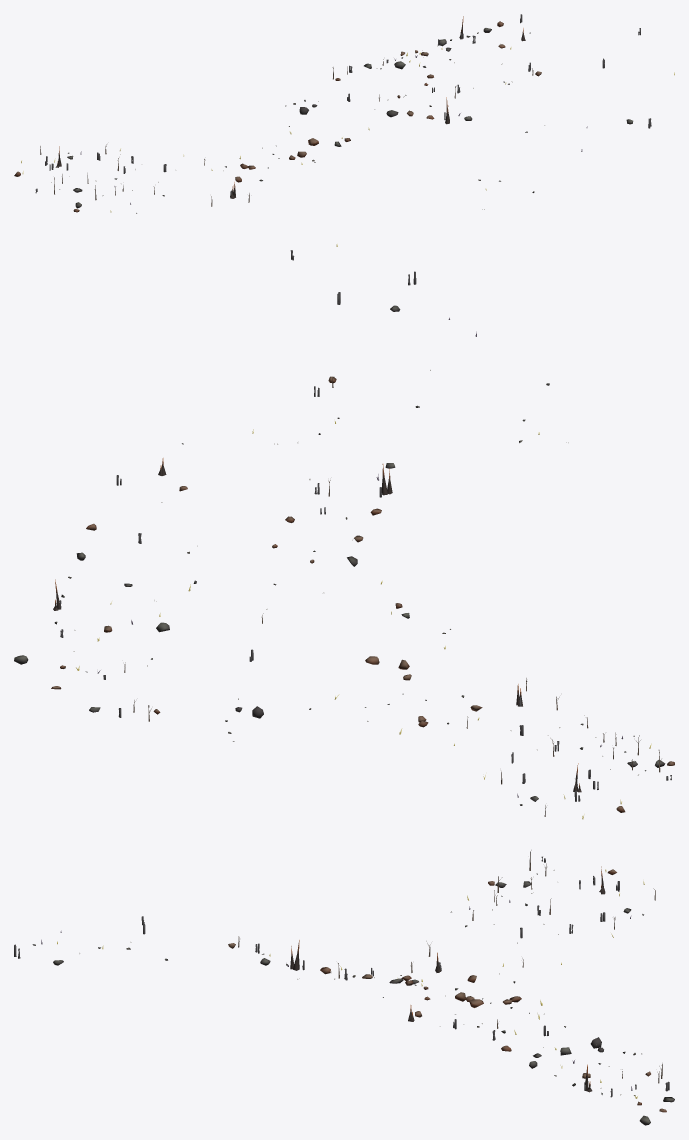
Rendered from ash_land_scatter_c20_28_lod1.glb.
The picture shows the model from 3 angles, top to bottom: view 1: azimuth 30°, elevation 25°; view 2: azimuth 150°, elevation 25°; view 3: azimuth 270°, elevation 25°; orthographic projection. The views are drawn at different scales.
Visible parts, largest first — view 1: ash_land_scatter_c20_28_lod1; view 2: ash_land_scatter_c20_28_lod1; view 3: ash_land_scatter_c20_28_lod1.
Part boxes in pixels (x1=…): ash_land_scatter_c20_28_lod1: x1=14, y1=14, x2=674, y2=213; ash_land_scatter_c20_28_lod1: x1=14, y1=244, x2=674, y2=819; ash_land_scatter_c20_28_lod1: x1=14, y1=850, x2=674, y2=1125.
Bounding box in the file's own units: 256 × 102 × 258.
